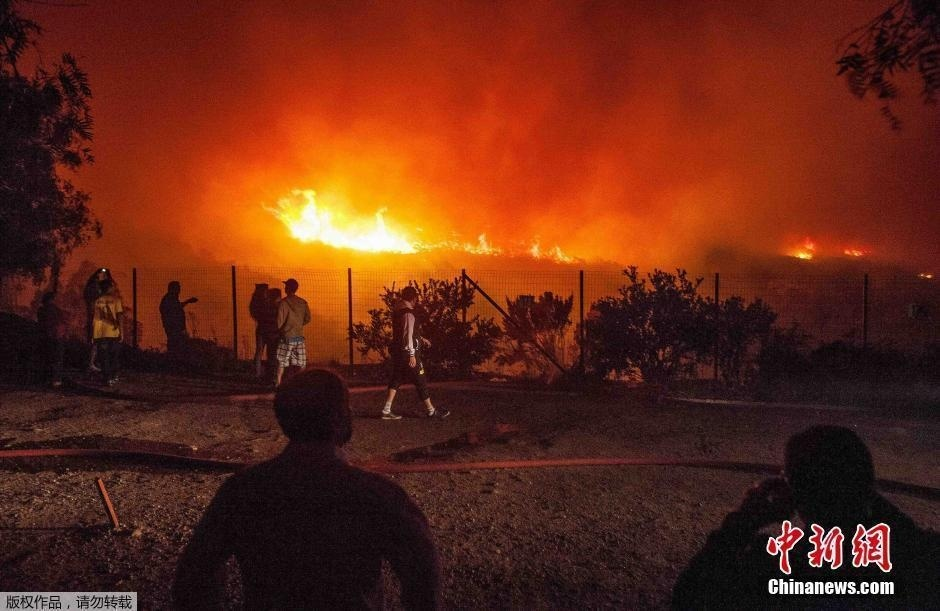fire: (268, 199, 582, 260), (780, 232, 835, 263)
